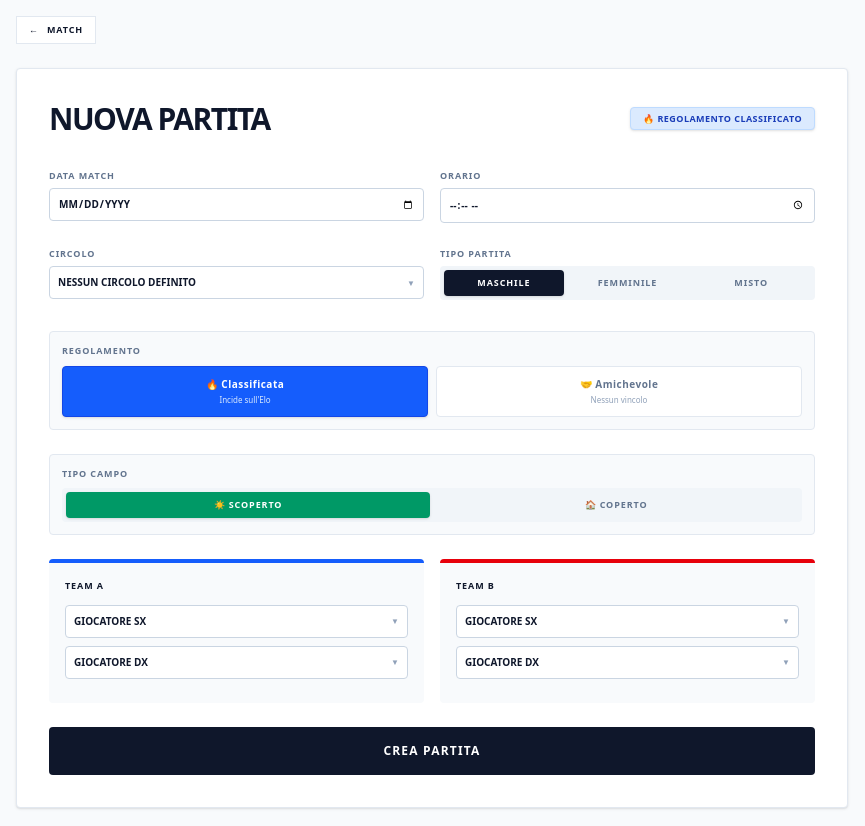
Test: CreateMatchForm Component (Page Integration) › dovrebbe filtrare i giocatori in base alla categoria (Genere)
This screenshot has width=865, height=826.
Check: the heading "Nuova Partita" is shown, box x1=49 y1=100 x2=270 y2=136
Click the text "GIOCATORE SX" below "TEAM A". click: click(110, 621)
box: x1=74 y1=614 x2=146 y2=628
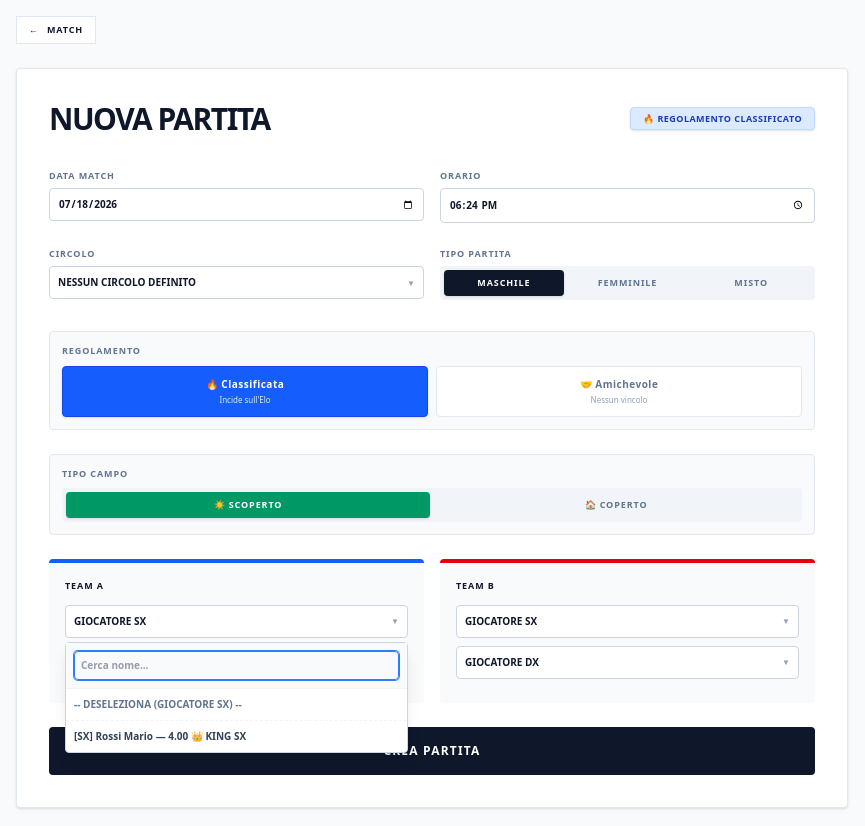
Check: the text "[SX] Rossi Mario — 4.00 👑 KING SX" is shown, box x1=74 y1=728 x2=246 y2=742
